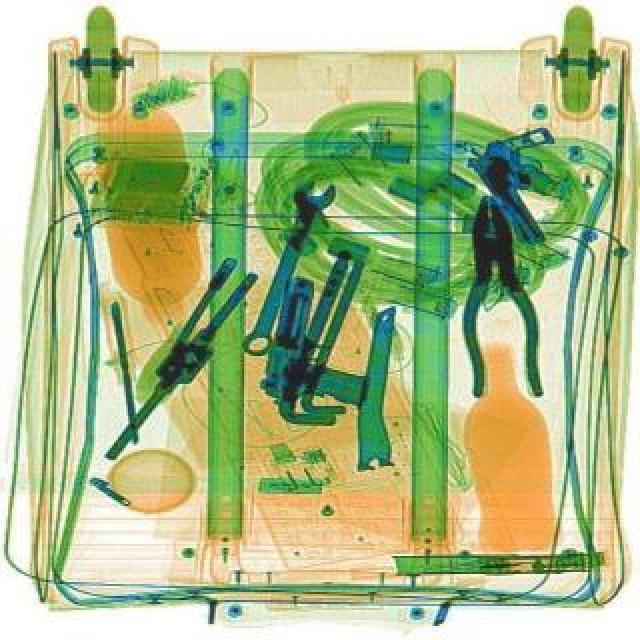gun: (262, 274, 394, 420), (464, 114, 602, 250)
scissors: (234, 174, 342, 362)
wrench: (456, 192, 548, 398)
